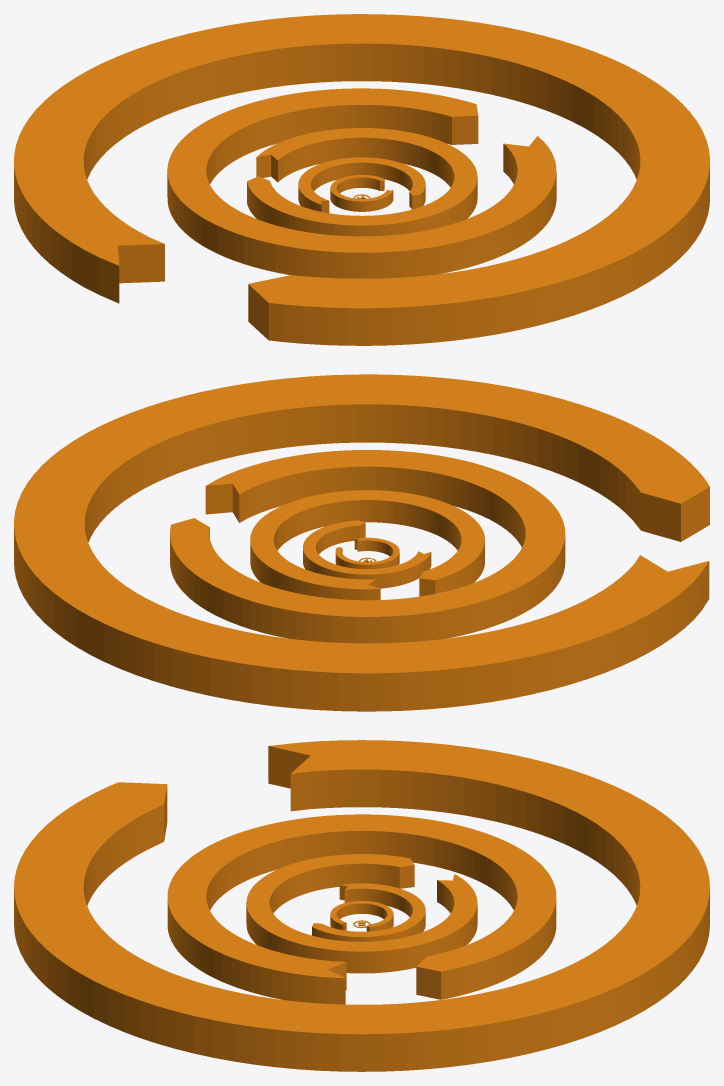
The model's file is hireco_3DScene_v15.glb.
The picture shows the model from 3 angles, top to bottom: view 1: azimuth 30°, elevation 25°; view 2: azimuth 150°, elevation 25°; view 3: azimuth 270°, elevation 25°; orthographic projection.
Parts seen in each view (by area): view 1: ring_6_6, ring_5_5, ring_4_4, ring_3_3, ring_2_2, ring_6; view 2: ring_6_6, ring_5_5, ring_4_4, ring_3_3, ring_2_2, ring_6; view 3: ring_6_6, ring_5_5, ring_4_4, ring_3_3, ring_2_2, ring_6.
Boxes of the visible parts, x1,y1,x2,y2 form: ring_6_6: (14,14,709,345); ring_5_5: (167,88,556,278); ring_4_4: (247,128,477,236); ring_3_3: (298,157,425,213); ring_2_2: (330,175,393,211); ring_6: (14,80,709,345); ring_6_6: (14,374,709,711); ring_5_5: (170,450,565,643); ring_4_4: (250,490,484,600); ring_3_3: (303,520,431,588); ring_2_2: (335,537,399,569); ring_6: (15,441,707,711); ring_6_6: (14,740,709,1071); ring_5_5: (167,814,556,1004); ring_4_4: (246,854,477,973); ring_3_3: (312,883,425,941); ring_2_2: (330,901,393,931); ring_6: (14,783,709,1071).
Size of the model in its own units: 1.55 by 0.0928 by 1.55.
